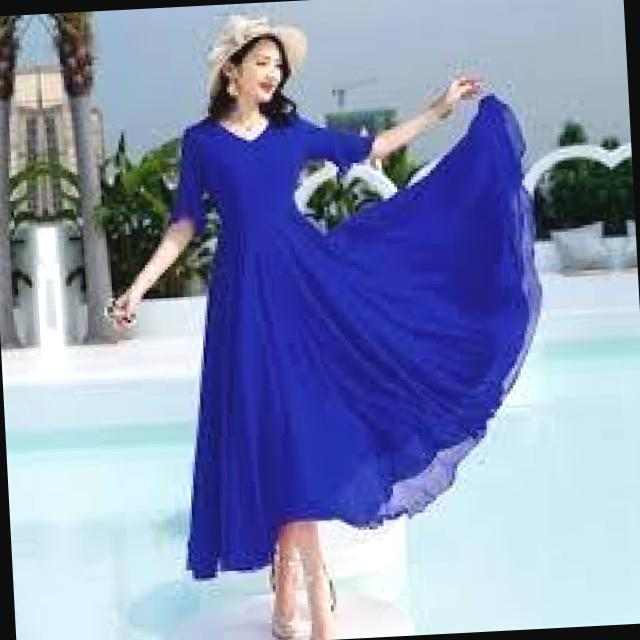dress: (171, 94, 553, 579)
